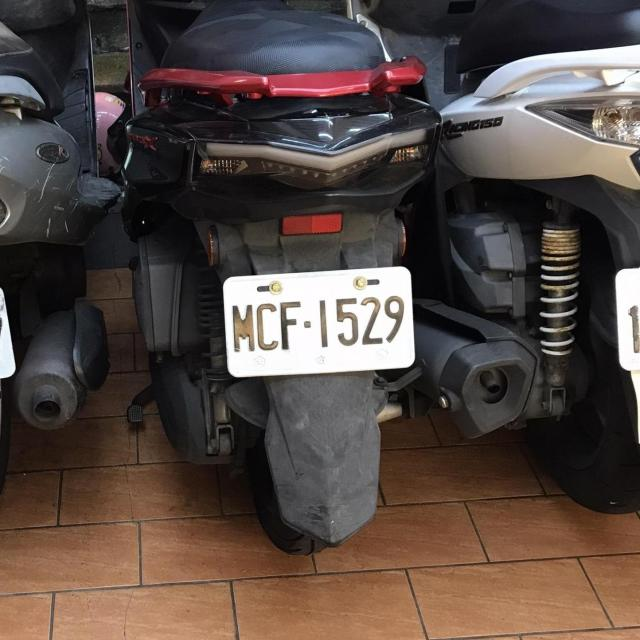W: (220, 265, 417, 379)
